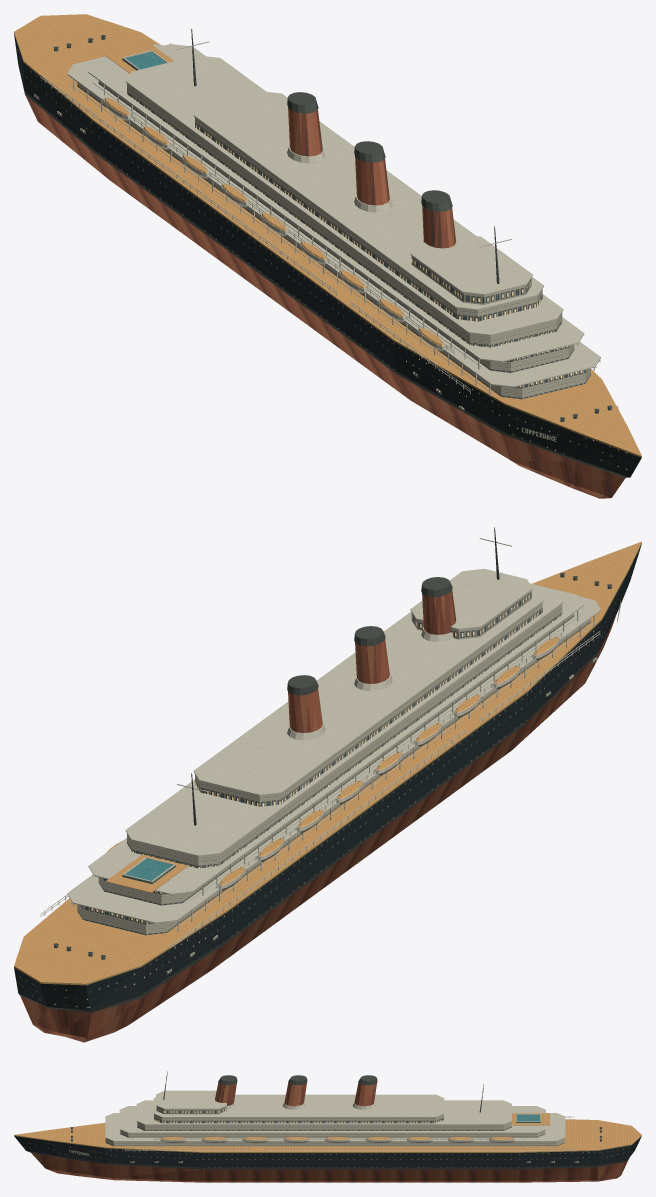
Rendered from ss-copperwake.glb.
3 views of the same model, one above another, from view 1: azimuth 30°, elevation 25°; view 2: azimuth 150°, elevation 25°; view 3: azimuth 270°, elevation 25° (orthographic). The views are drawn at different scales.
Parts seen in each view (by area): view 1: superstructure, hull, funnels_and_rigging; view 2: superstructure, hull, funnels_and_rigging; view 3: hull, superstructure, funnels_and_rigging.
Part boxes in pixels (x1,y1,x2,y2): superstructure: (40,35,612,421); hull: (14,14,641,498); funnels_and_rigging: (177,29,512,283); superstructure: (40,568,612,959); hull: (14,541,641,1042); funnels_and_rigging: (177,527,511,825); hull: (14,1119,641,1182); superstructure: (70,1090,602,1150); funnels_and_rigging: (163,1071,483,1112).
Bounding box in the file's own units: 33.4 × 46.59 × 260.
9 materials, 9 textured.
